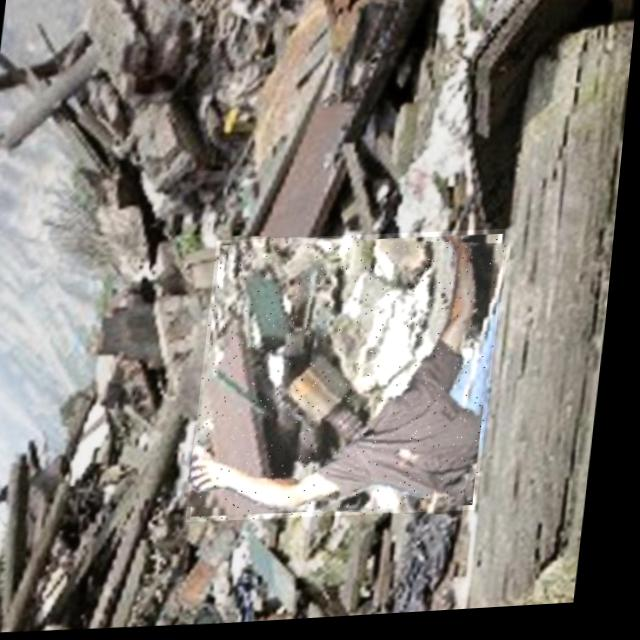Person in Rubble: (195, 229, 513, 529)
